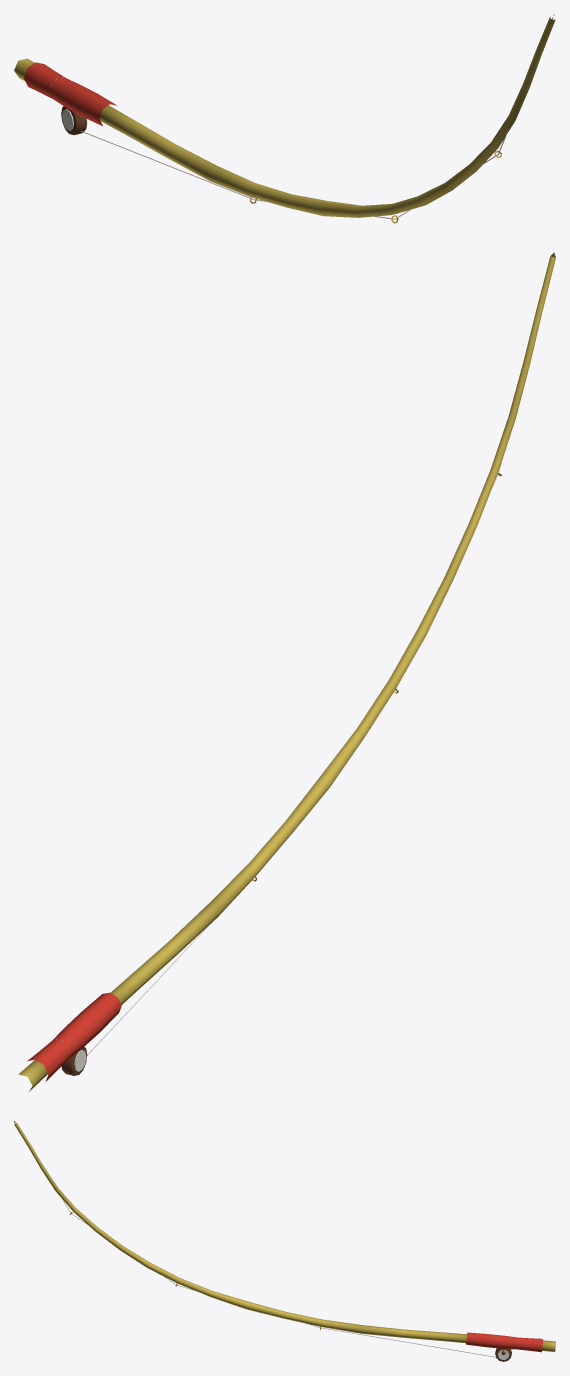
File: fishing-rod.glb
The picture shows the model from 3 angles, top to bottom: view 1: azimuth 30°, elevation 25°; view 2: azimuth 150°, elevation 25°; view 3: azimuth 270°, elevation 25°; orthographic projection. The views are drawn at different scales.
Visible parts, largest first — view 1: Fishing rod Bamboo, Fishing rod Fabric red, Fishing rod Line, Fishing rod Dark wood; view 2: Fishing rod Bamboo, Fishing rod Fabric red; view 3: Fishing rod Bamboo, Fishing rod Fabric red, Fishing rod Line.
Part boxes in pixels (x1,y1,x2,y2): Fishing rod Bamboo: (14, 14, 555, 217); Fishing rod Fabric red: (24, 62, 116, 125); Fishing rod Line: (62, 17, 553, 219); Fishing rod Dark wood: (61, 106, 87, 135); Fishing rod Bamboo: (18, 252, 555, 1091); Fishing rod Fabric red: (27, 992, 121, 1081); Fishing rod Bamboo: (14, 1121, 555, 1351); Fishing rod Fabric red: (466, 1332, 542, 1352); Fishing rod Line: (15, 1123, 509, 1359).
Bounding box in the file's own units: 0.0705 × 1.02 × 2.09.
